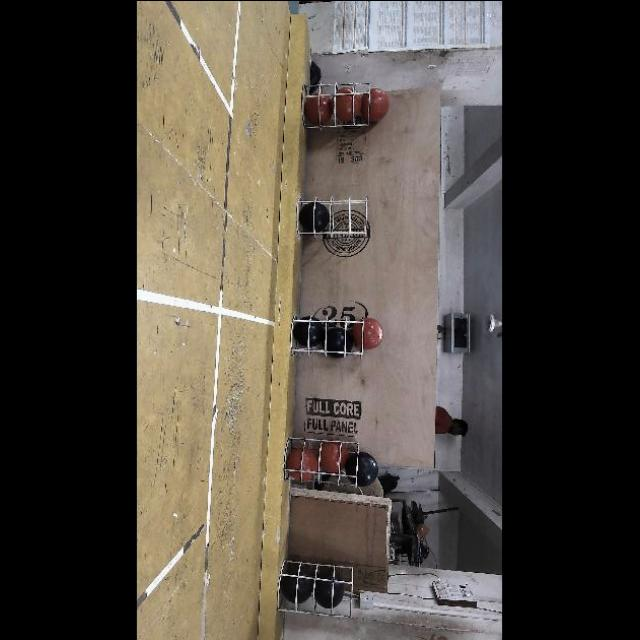P: (346, 451, 379, 485), (282, 566, 312, 602), (314, 571, 344, 607), (301, 202, 331, 232), (294, 316, 324, 346), (324, 328, 354, 357)
R: (352, 316, 384, 349), (332, 88, 362, 120), (318, 440, 348, 472), (362, 87, 390, 120), (290, 447, 318, 479), (306, 92, 332, 124)
S: (285, 430, 361, 490), (279, 562, 357, 616), (294, 192, 376, 240), (300, 81, 372, 130), (291, 311, 365, 357)
